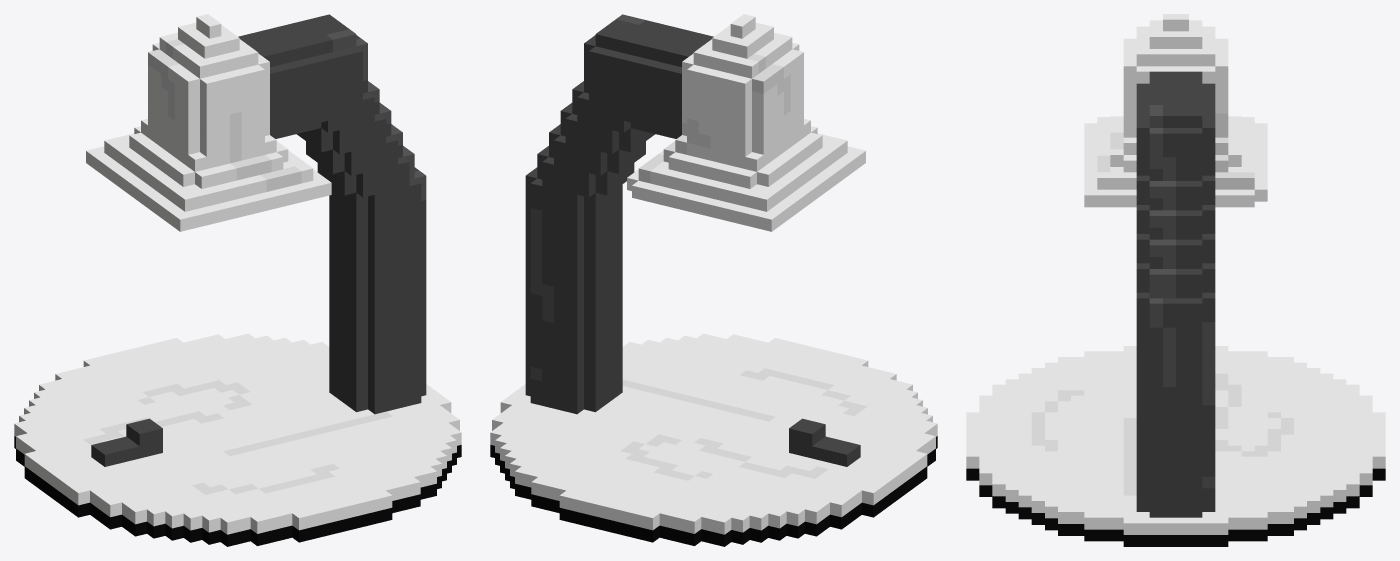
Rendered from table_lamp.obj.
3 views of the same model, side by side, from view 1: azimuth 30°, elevation 25°; view 2: azimuth 150°, elevation 25°; view 3: azimuth 270°, elevation 25° (orthographic). The views are drawn at different scales.
Size of the model in its own units: 3.2 by 3.6 by 3.2.
1 material, 1 textured.
